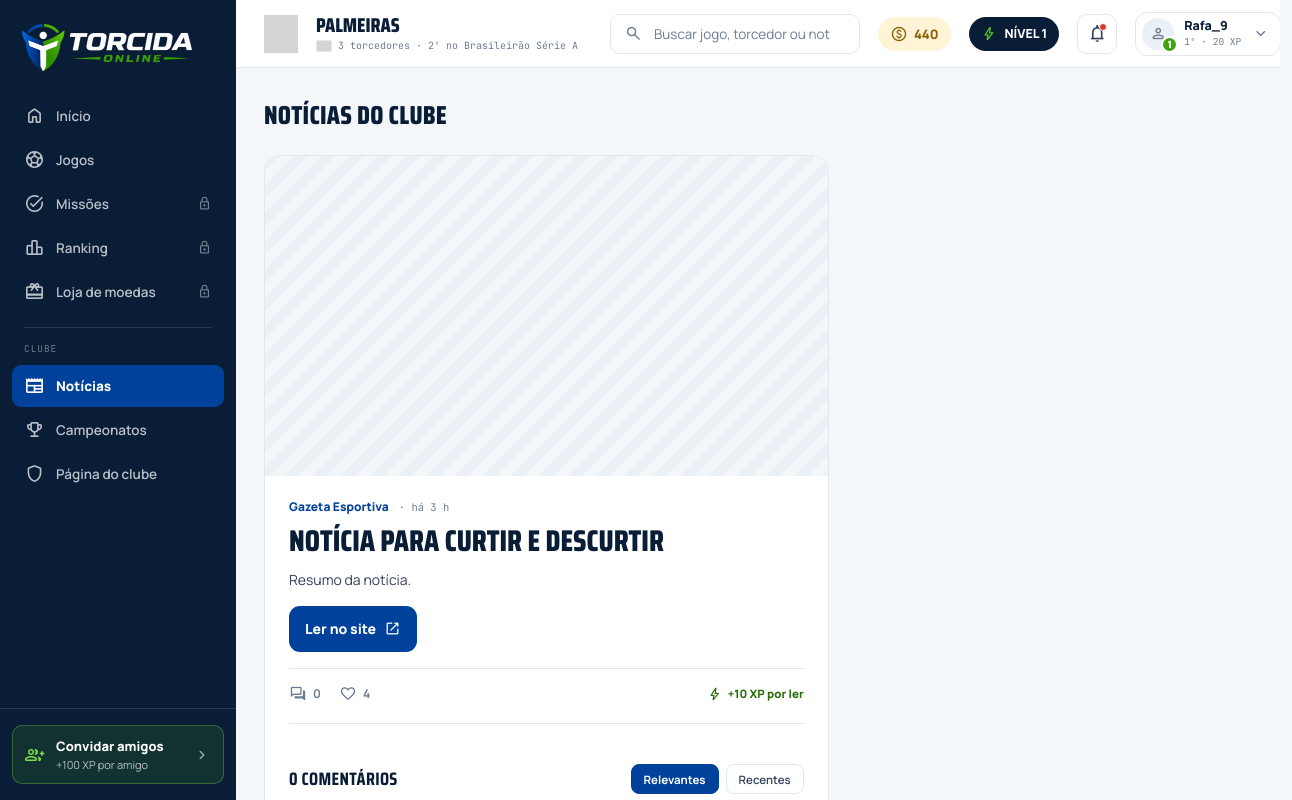
it: notícias do clube (W09) › curte e descurte a notícia
This screenshot has width=1292, height=800.
Step 1. Click the button named "Curtir a notícia" → [355, 694], box [339,684,370,702]
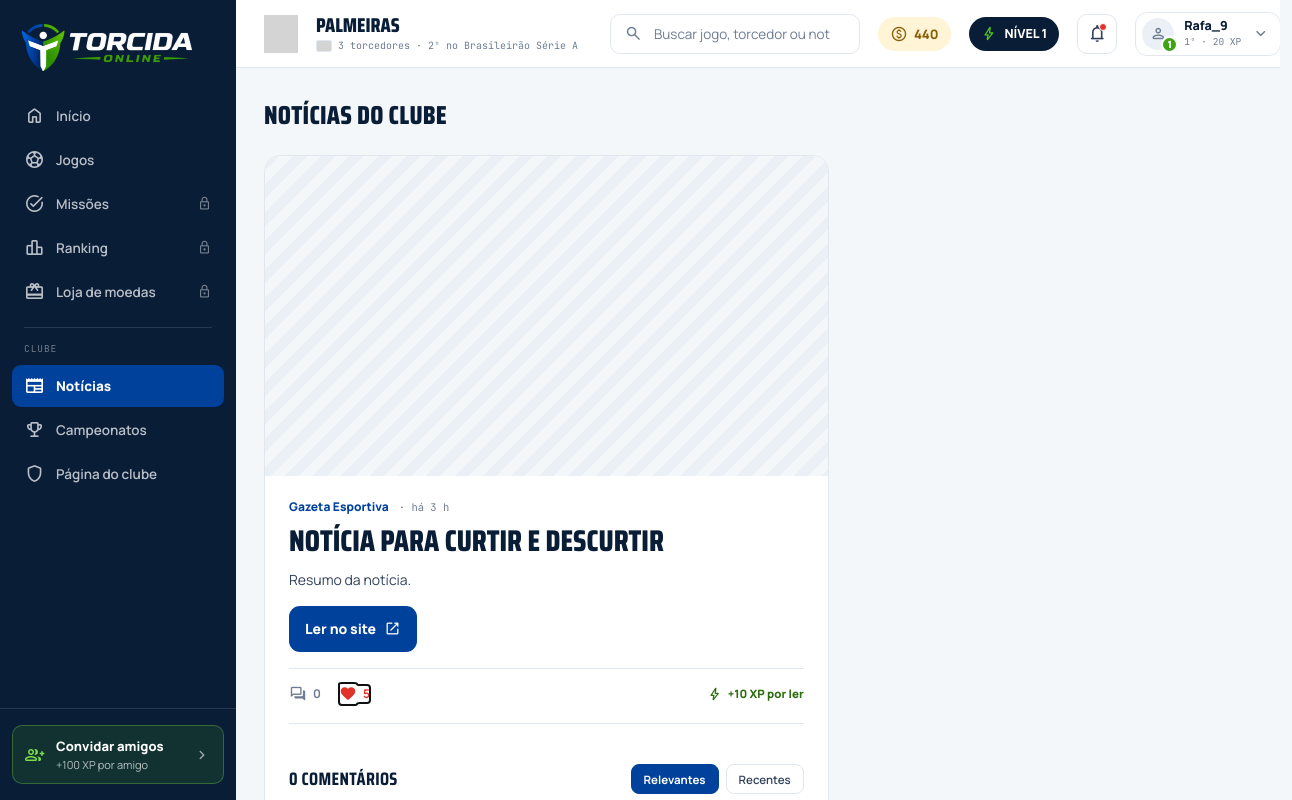
Now the button named "Curtir a notícia" reads "5"
Step 2. Click the button named "Curtir a notícia" → [354, 694], box [339,684,370,702]
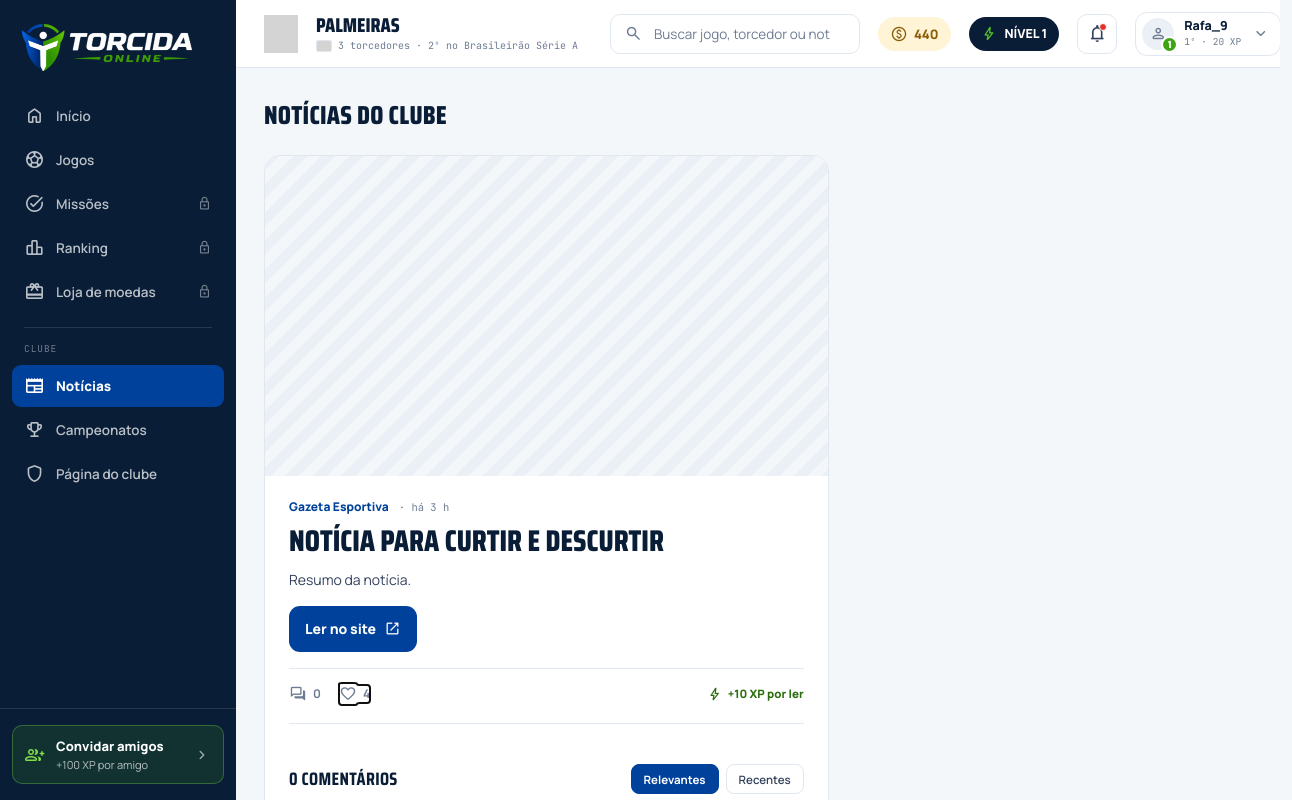
Now the button named "Curtir a notícia" reads "4", box [339,684,370,702]
